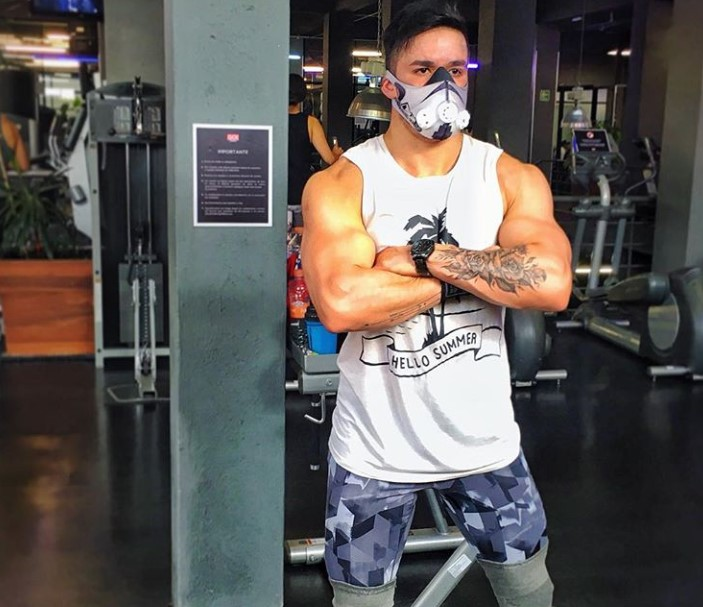face_with_mask: (379, 14, 474, 153)
